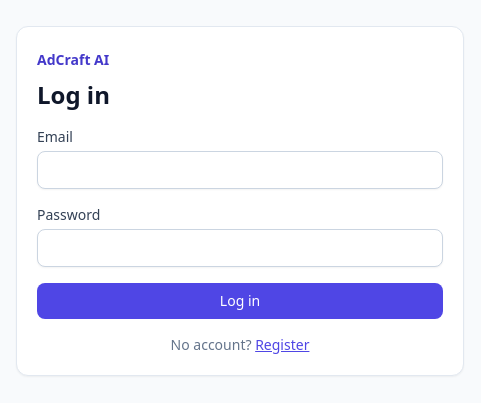
Scenario: auth form validation › login rejects malformed email
Type "not-an-email" into the field labelled "Email" at (240,170), box [37,151,443,189]
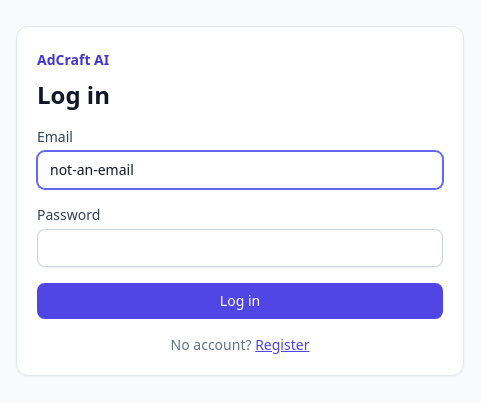
Type "whatever" into the password field labelled "Password" at (240,248), box [37,229,443,267]
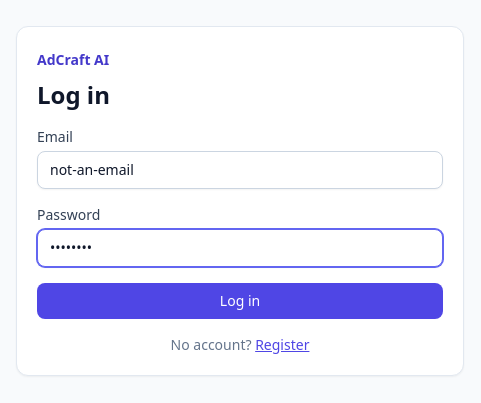
Click the button "Log in" at (240,301), box [37,283,443,319]
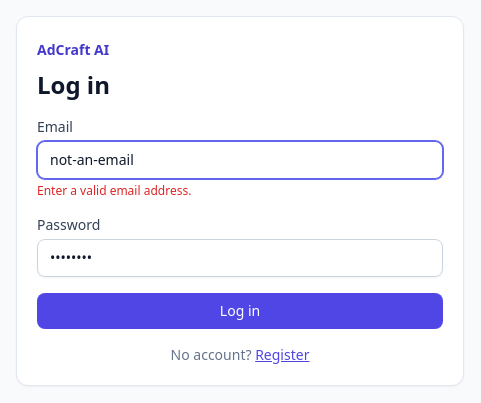
Expected: the text "Enter a valid email address." is shown, [37,182,191,199]
